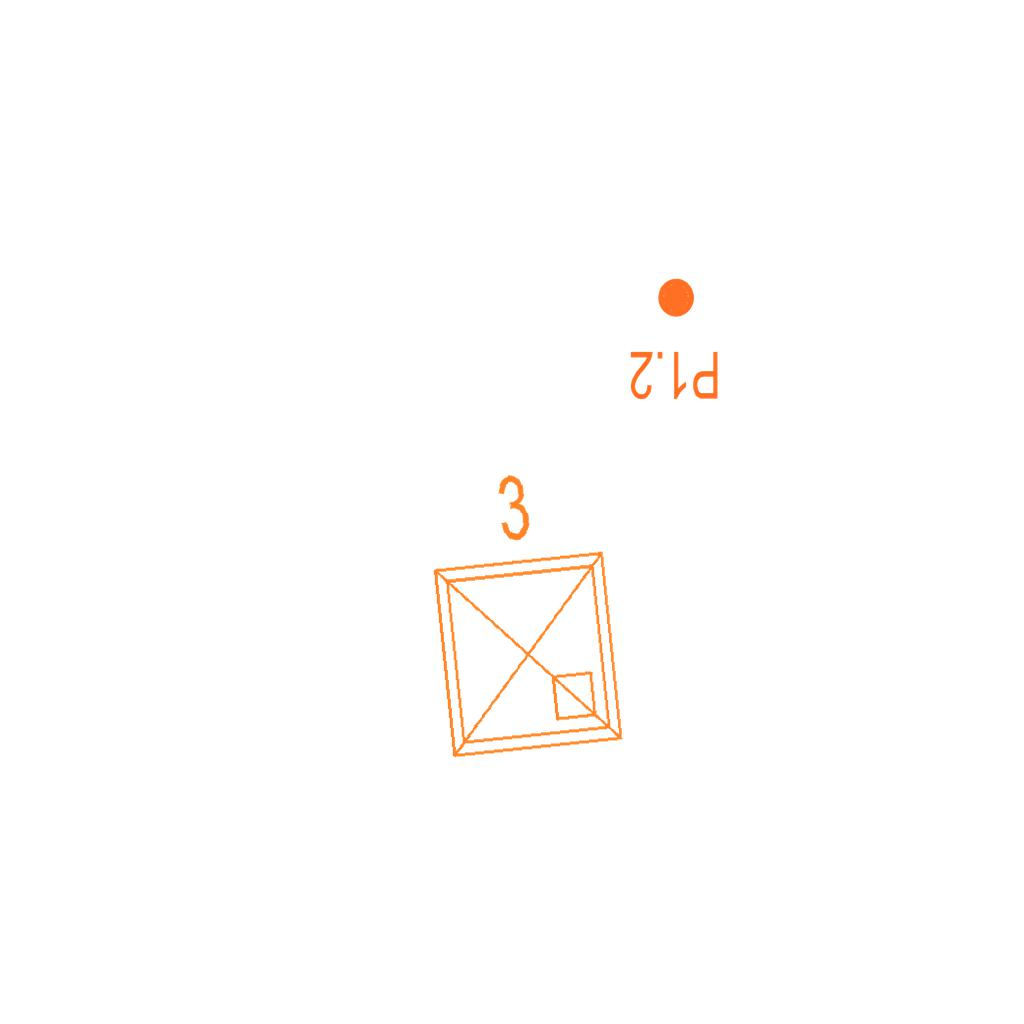Downlight_LED_Einbauleuchten_Flur: (628, 275, 721, 403)
Einbaudownlights_LED_Konferenzraeume: (400, 453, 640, 775)
